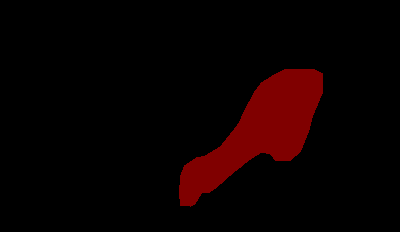fire: (179, 69, 322, 206)
